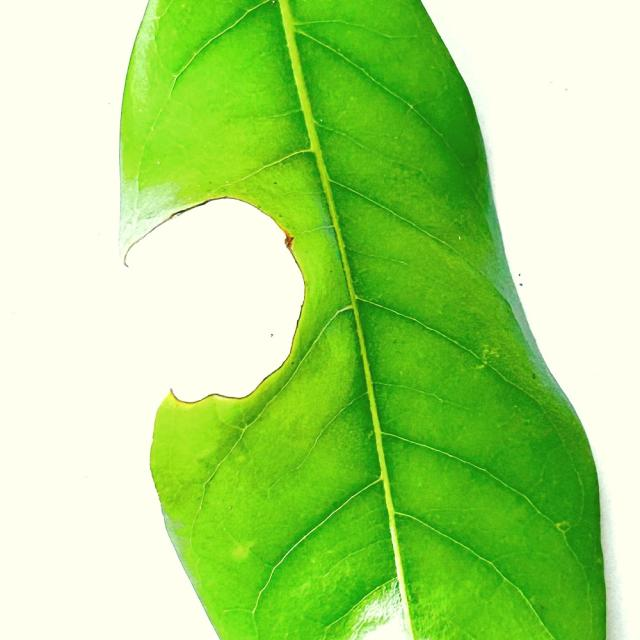Deficiency Leaf: (123, 198, 306, 408), (323, 579, 414, 639)
Lychee: (118, 0, 609, 639)
